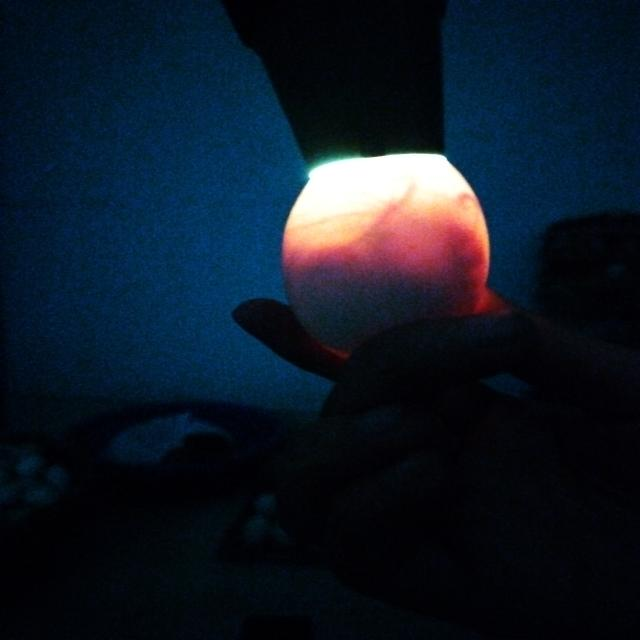Embriao: (288, 256, 474, 350)
